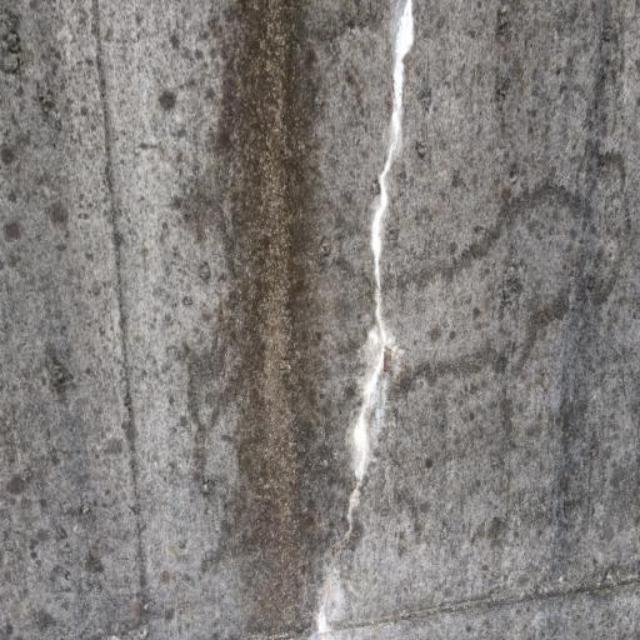D01: (350, 2, 413, 505)
